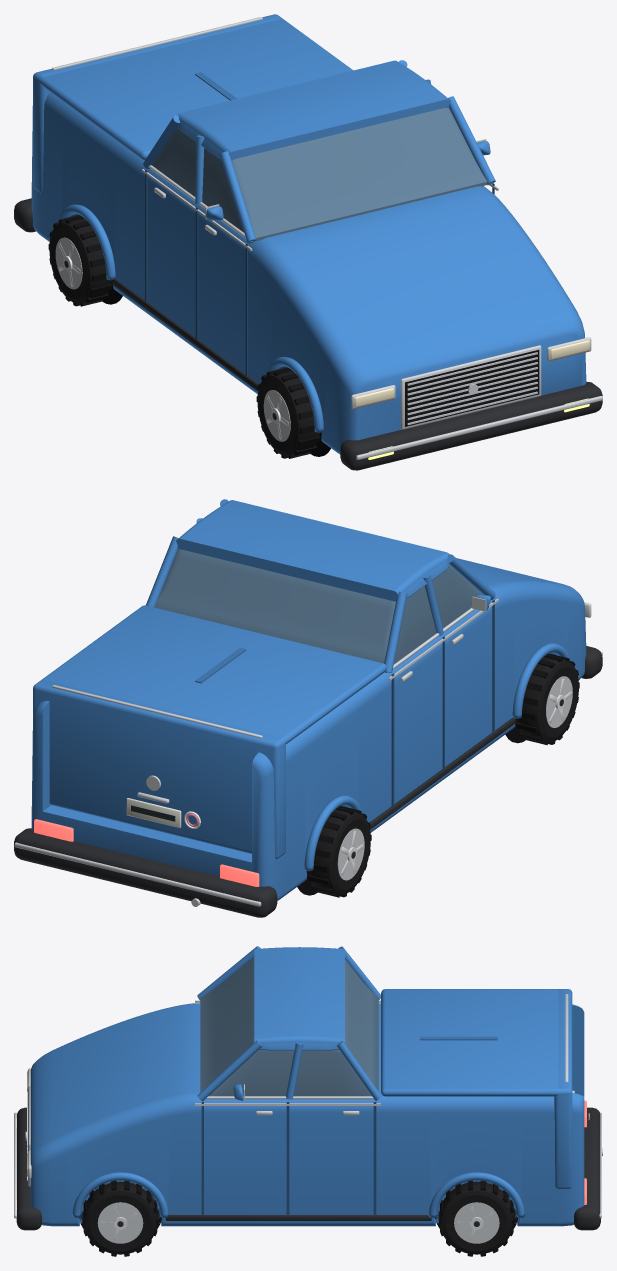
The model's file is cominghome.fbx.
The picture shows the model from 3 angles, top to bottom: view 1: azimuth 30°, elevation 25°; view 2: azimuth 150°, elevation 25°; view 3: azimuth 270°, elevation 25°; orthographic projection. The views are drawn at different scales.
Parts seen in each view (by area): view 1: Body, Lid, Wheel_3, Wheel_1, LidFlap; view 2: Body, Lid, LidFlap, Wheel_1, Wheel_3; view 3: Body, Lid, Wheel_2, Wheel_0, LidFlap.
Boxes of the visible parts, x1,y1,x2,y2 form: Body: [14, 60, 602, 470]; Lid: [33, 14, 353, 159]; Wheel_3: [256, 367, 320, 458]; Wheel_1: [48, 215, 112, 306]; LidFlap: [33, 15, 280, 193]; Body: [14, 499, 602, 917]; Lid: [33, 605, 386, 748]; LidFlap: [33, 680, 285, 859]; Wheel_1: [308, 806, 371, 897]; Wheel_3: [516, 653, 579, 745]; Body: [14, 946, 602, 1230]; Lid: [381, 989, 572, 1096]; Wheel_2: [82, 1180, 158, 1256]; Wheel_0: [438, 1180, 514, 1256]; LidFlap: [554, 989, 574, 1189].
Size of the model in its own units: 5.5 by 4.51 by 11.39.
